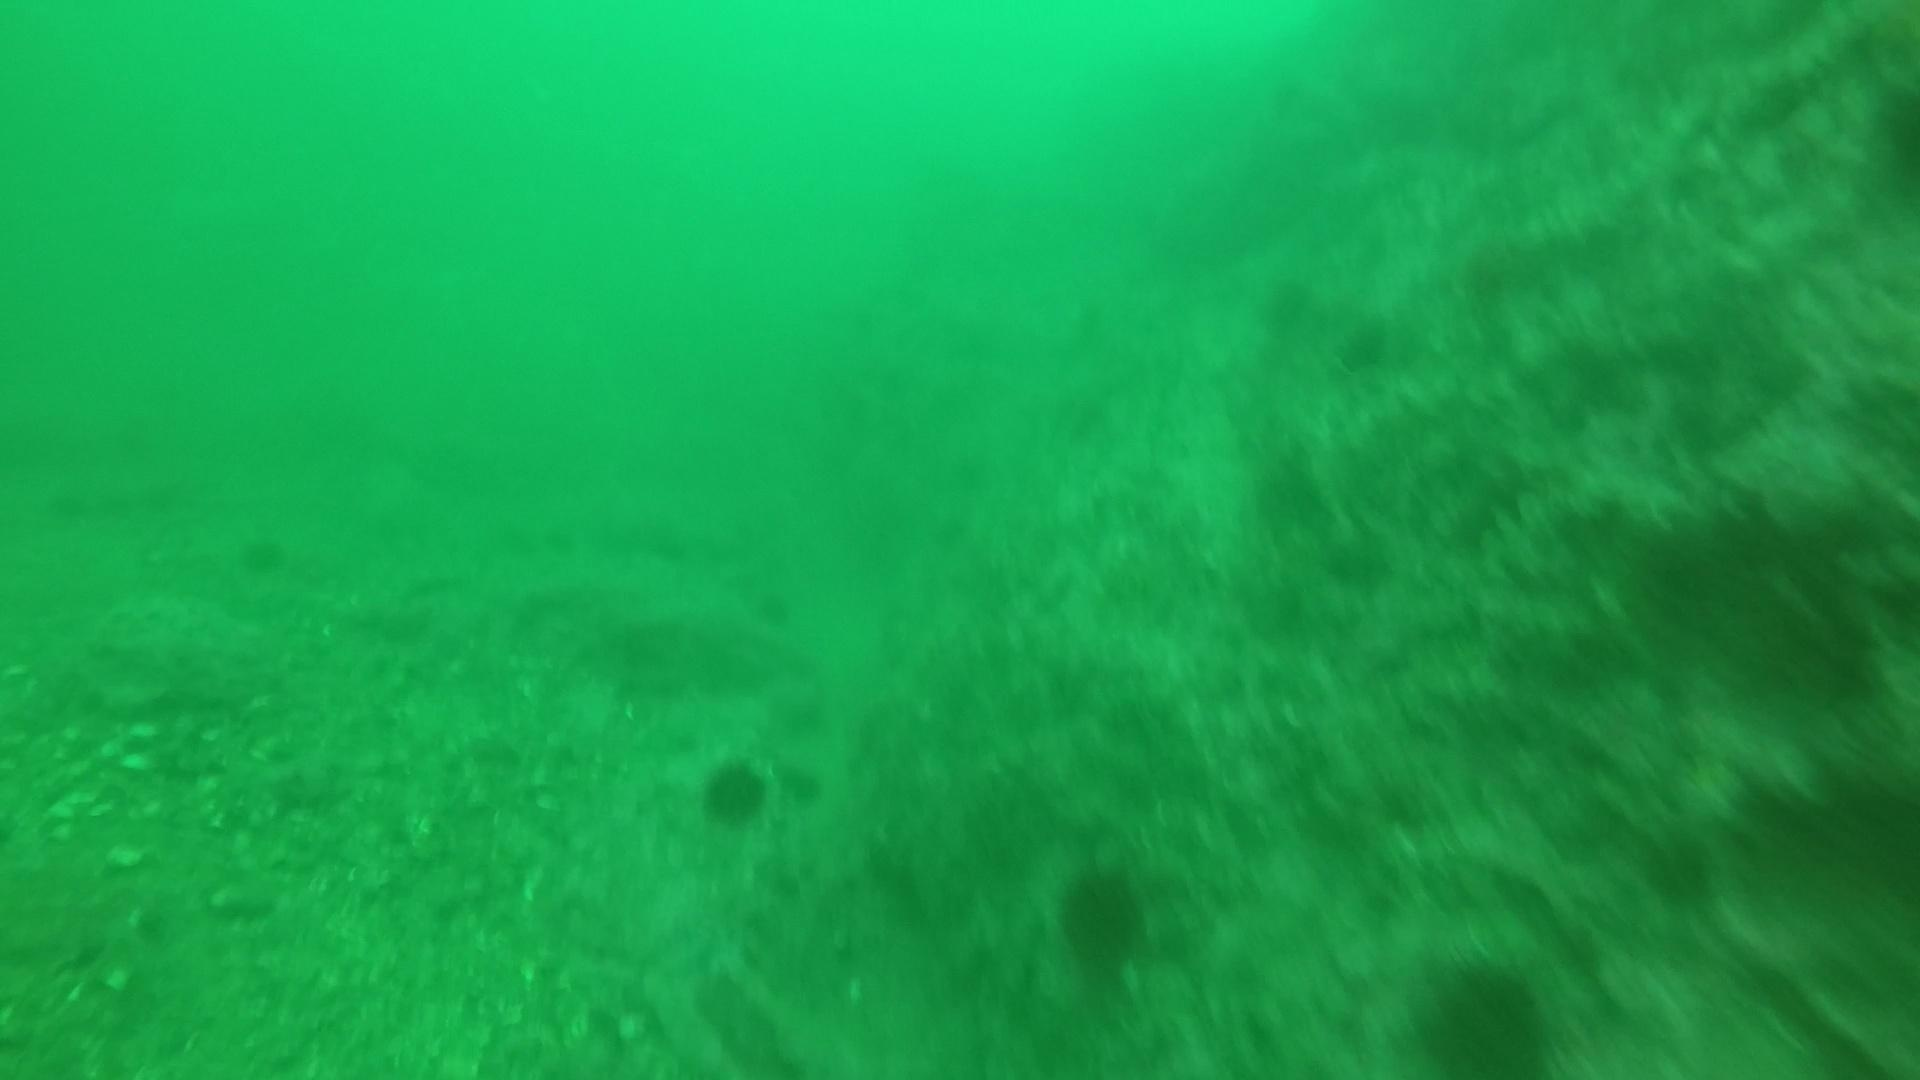echinus: (1411, 952, 1563, 1077), (1051, 858, 1154, 977), (694, 752, 777, 832)
